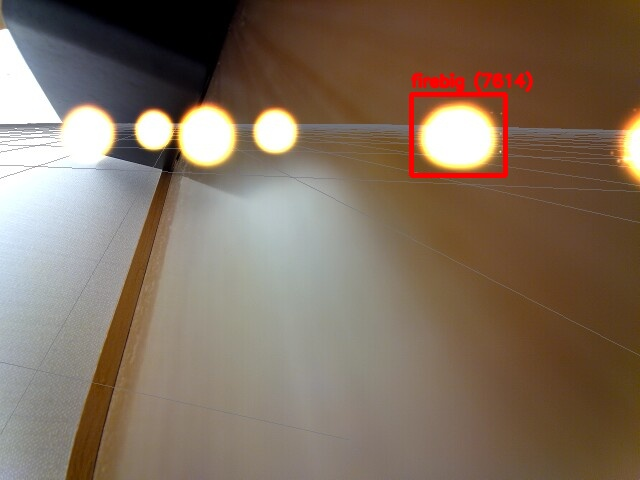firebig: (411, 94, 505, 175)
